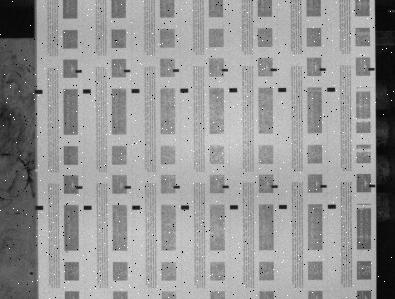backgroundclutter: (30, 272, 34, 276)
qblock: (35, 206, 44, 211), (180, 88, 189, 93), (83, 89, 91, 94), (132, 206, 141, 210), (328, 205, 337, 209), (279, 205, 288, 209), (181, 206, 190, 210), (35, 90, 43, 94), (328, 88, 336, 92), (132, 89, 140, 93), (279, 88, 287, 92), (230, 88, 238, 92), (84, 206, 92, 210), (230, 205, 238, 209)
smallqblock: (124, 69, 131, 73), (272, 185, 279, 189), (75, 70, 82, 73), (222, 69, 229, 72), (173, 69, 180, 72), (271, 68, 278, 71), (320, 68, 327, 71), (76, 186, 83, 189), (369, 68, 376, 71), (223, 186, 230, 189), (125, 186, 131, 189), (174, 186, 180, 189), (321, 185, 327, 188), (370, 185, 376, 188)
